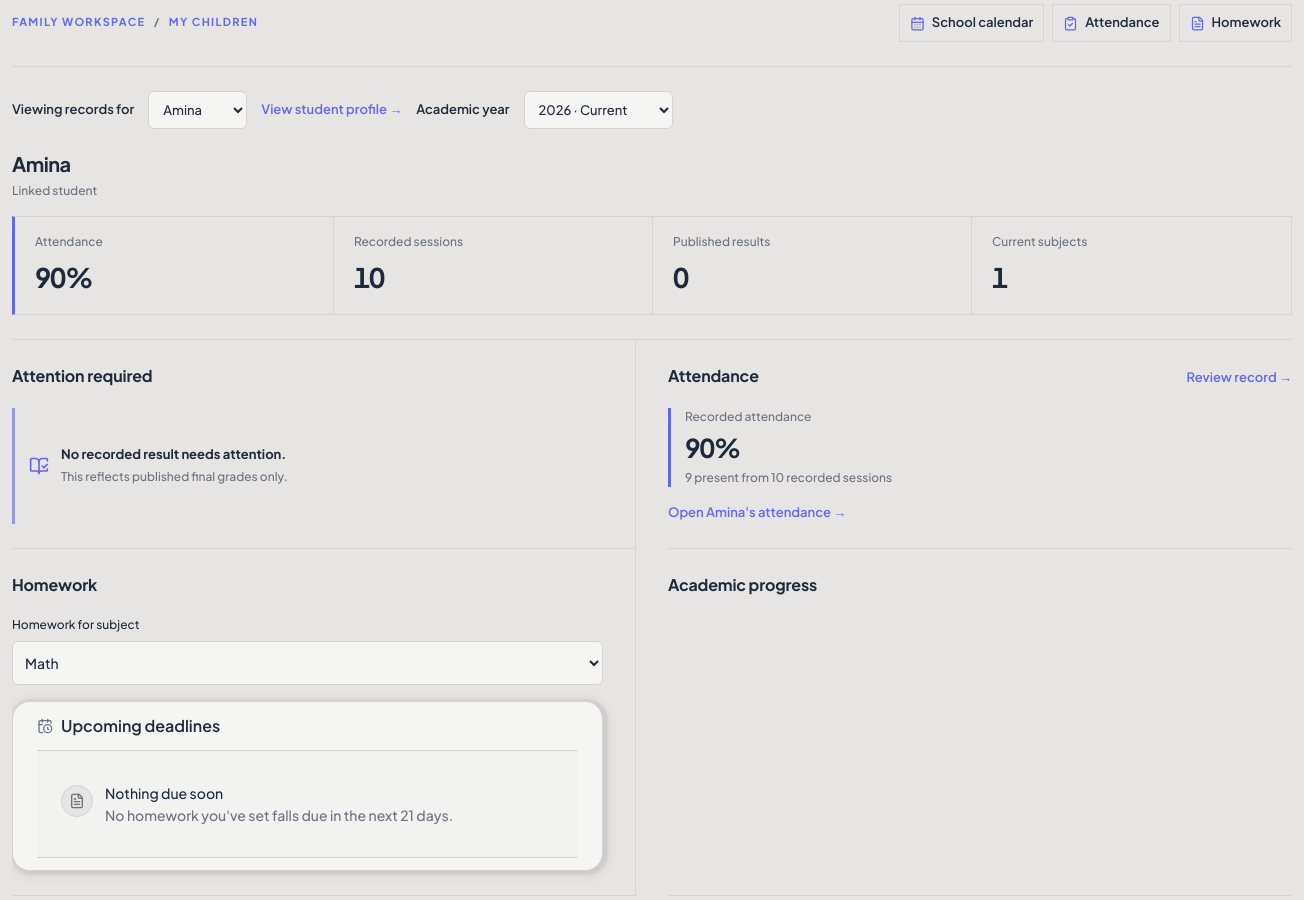
Test case: opens attendance and homework for the child already selected on the dashboard
This screenshot has width=1304, height=900.
Expected: the text "90%" below "Linked student" is shown, [35,260,92,294]
Select "Juma" in the dropdown labelled "Viewing records for" at (198,110), box [148,91,247,129]
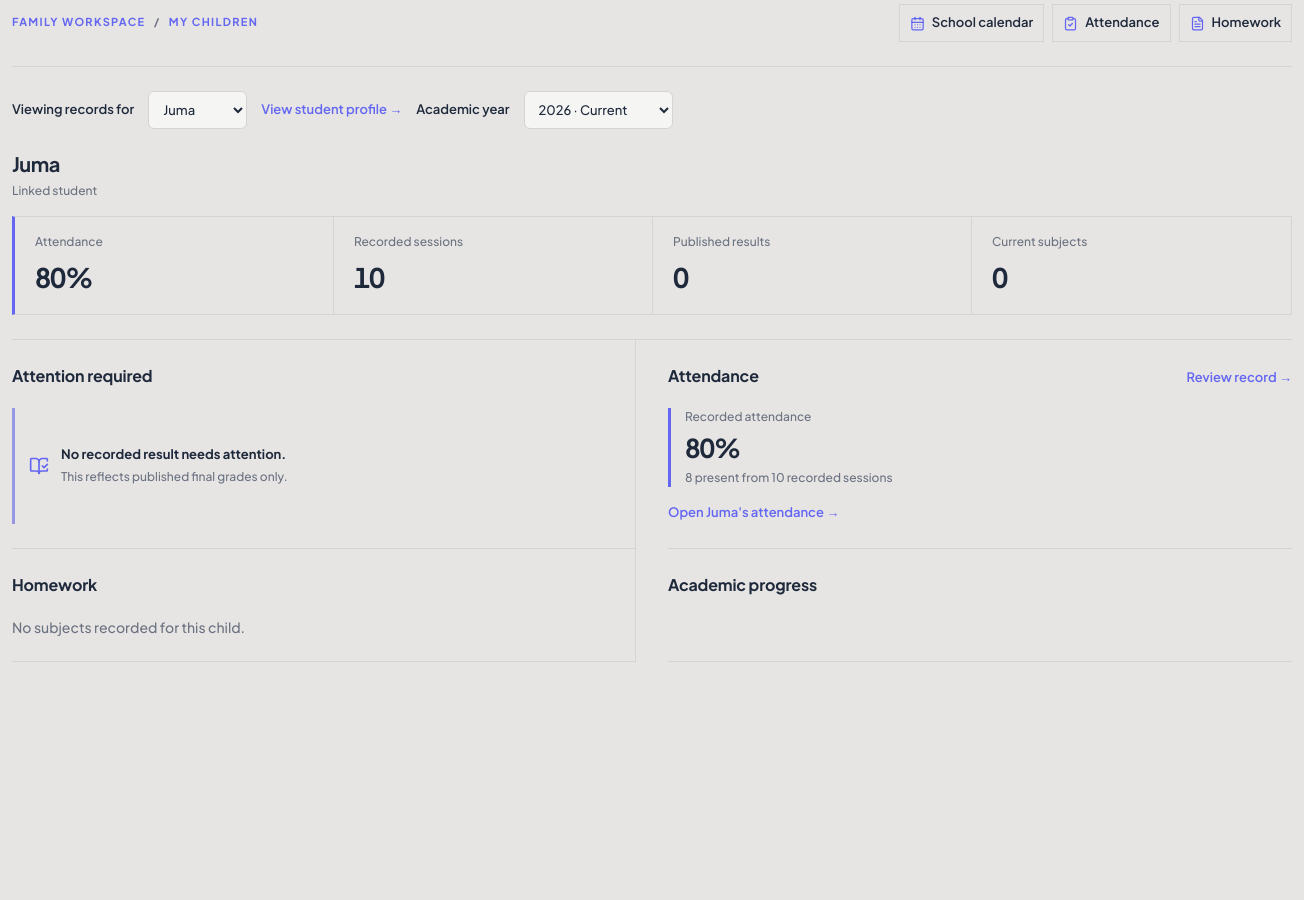
Result: the text "80%" below "Linked student" is shown at [35,260,92,294]
Result: the text "90%" is not shown
Result: the heading "Juma" is shown at [12,151,60,176]
